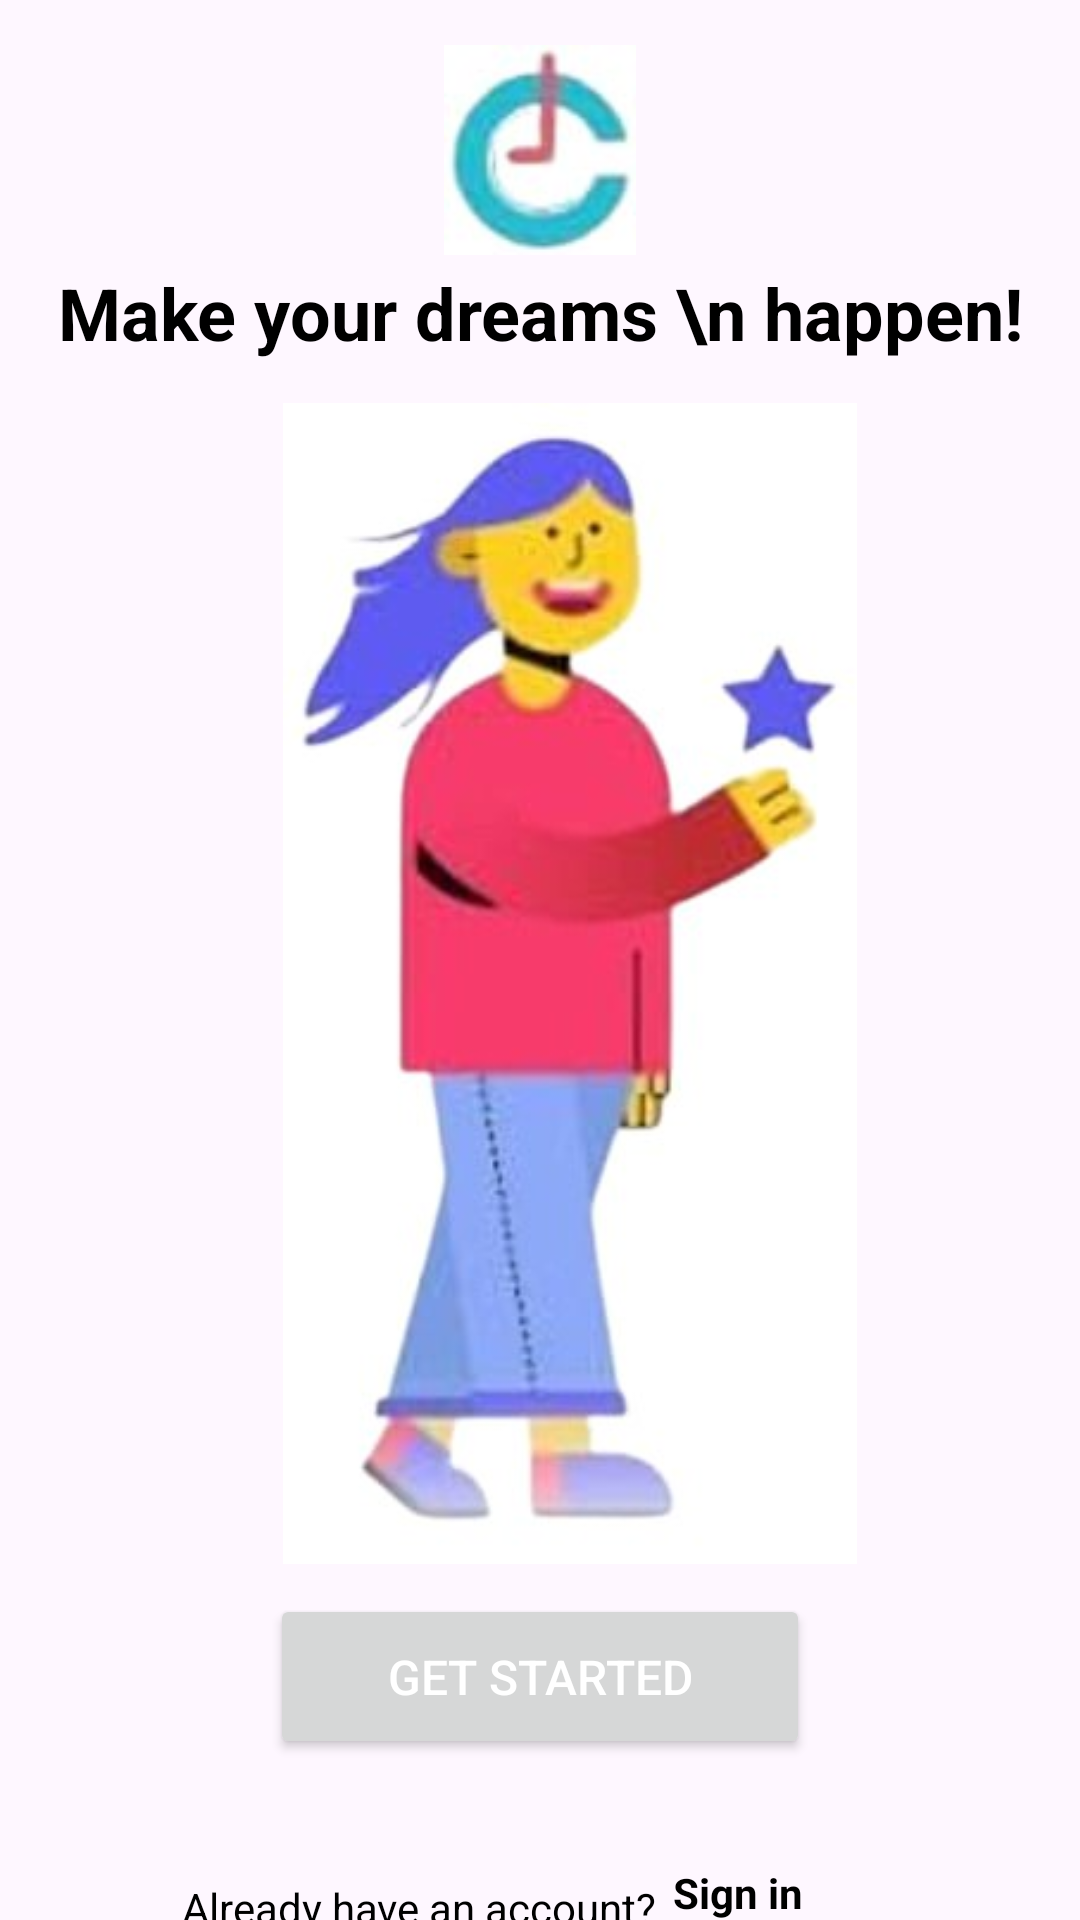

Icon click points for this 1080*1920 phone screenshot, format [x,y]:
clock: [540,150]
